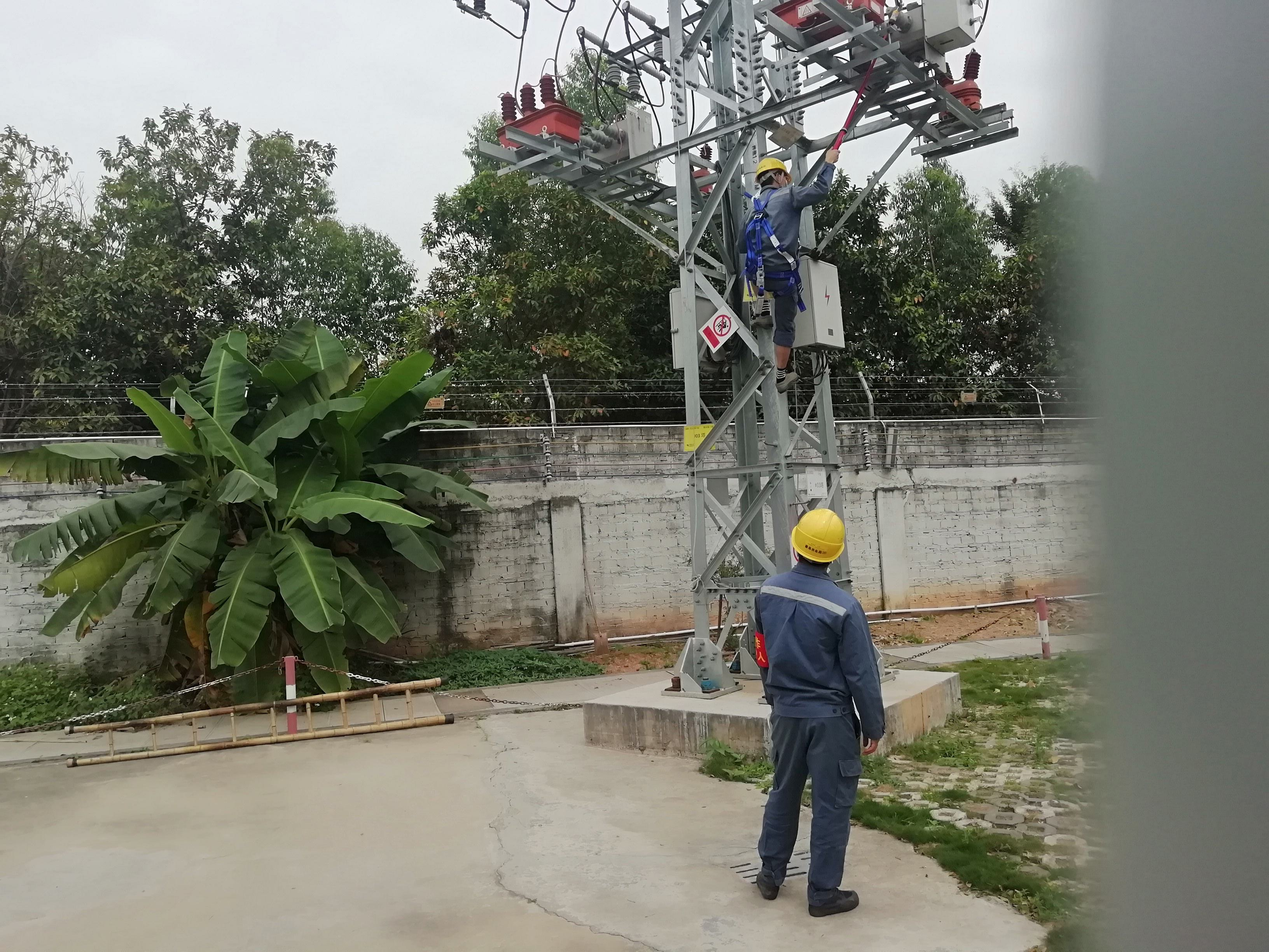绝缘操作杆: (832, 5, 898, 150)
